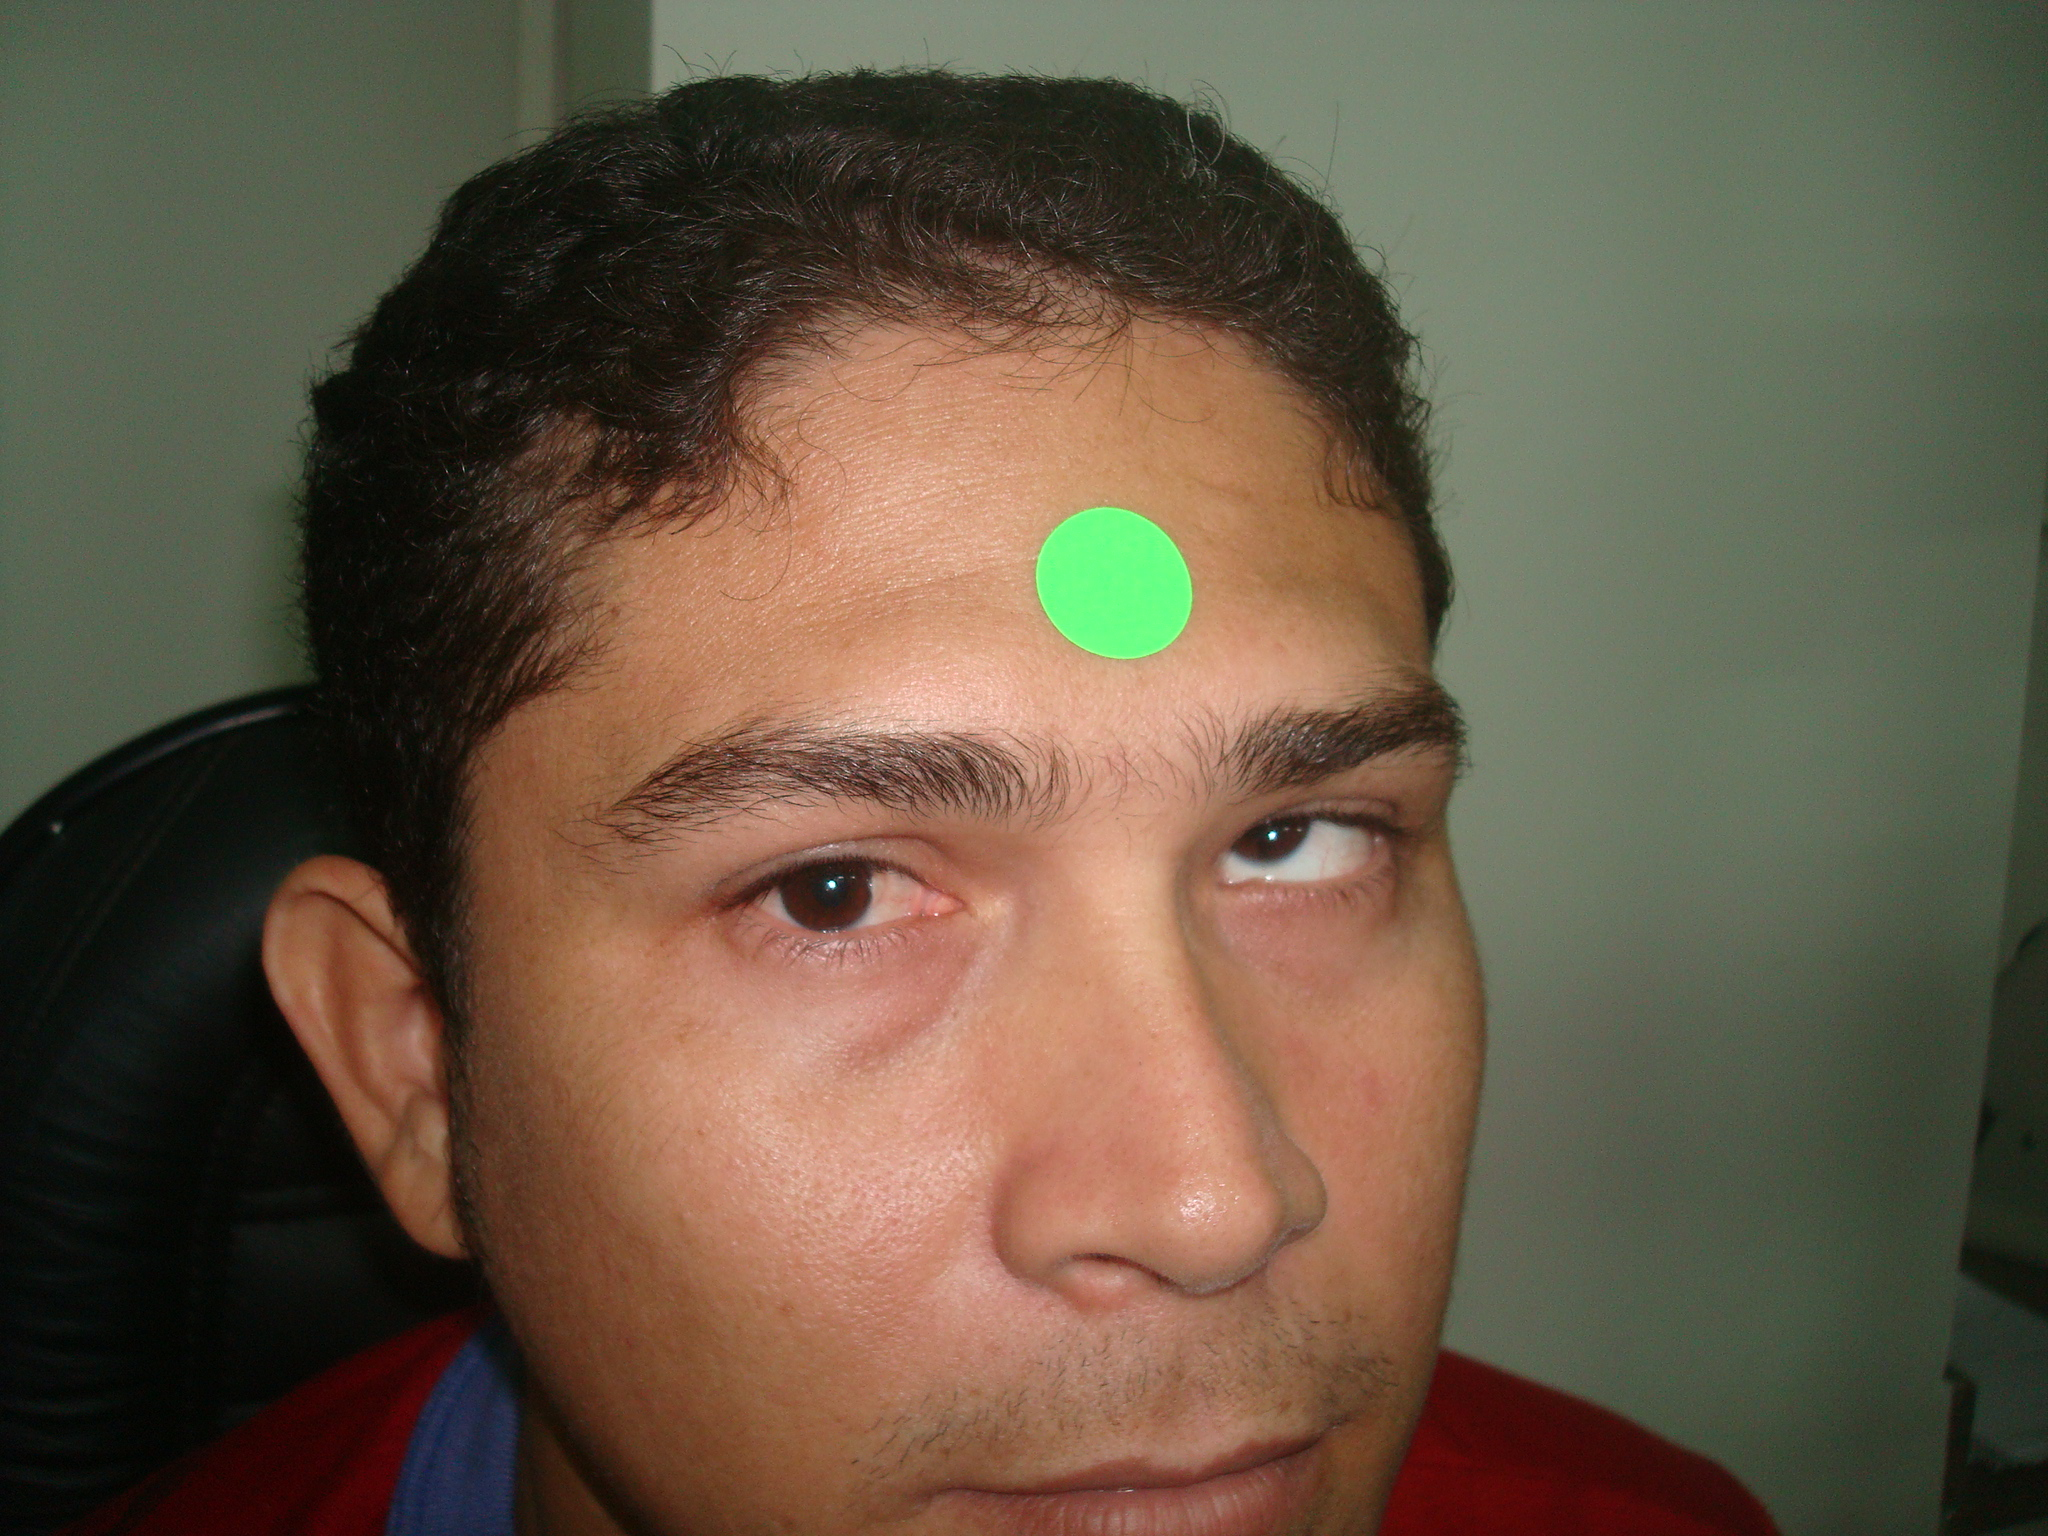flash: (824, 874, 840, 894), (1266, 828, 1279, 842)
limbo: (780, 849, 879, 929), (1226, 795, 1298, 858)
